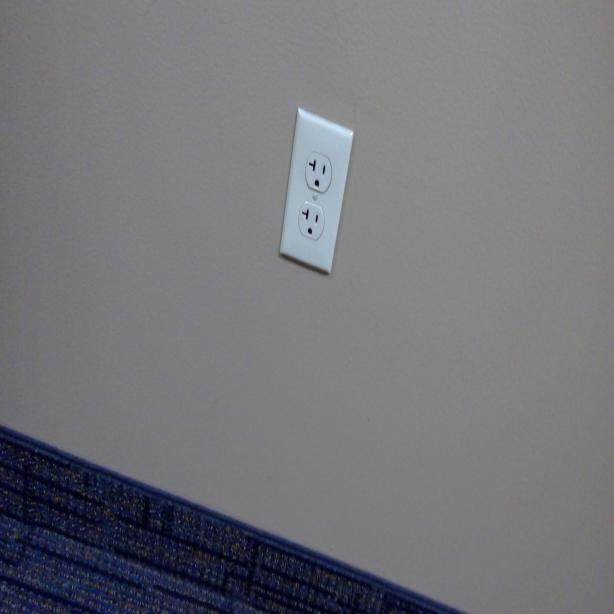typeb: (302, 148, 332, 193), (300, 200, 324, 239)
